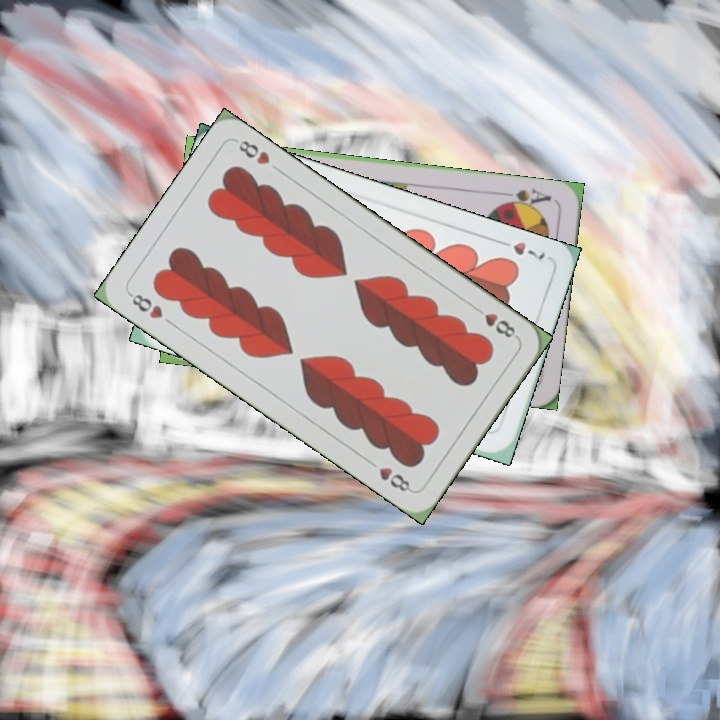H7: (493, 235, 548, 263)
H8: (469, 302, 521, 341), (125, 289, 166, 322)
SA: (496, 184, 554, 212)
